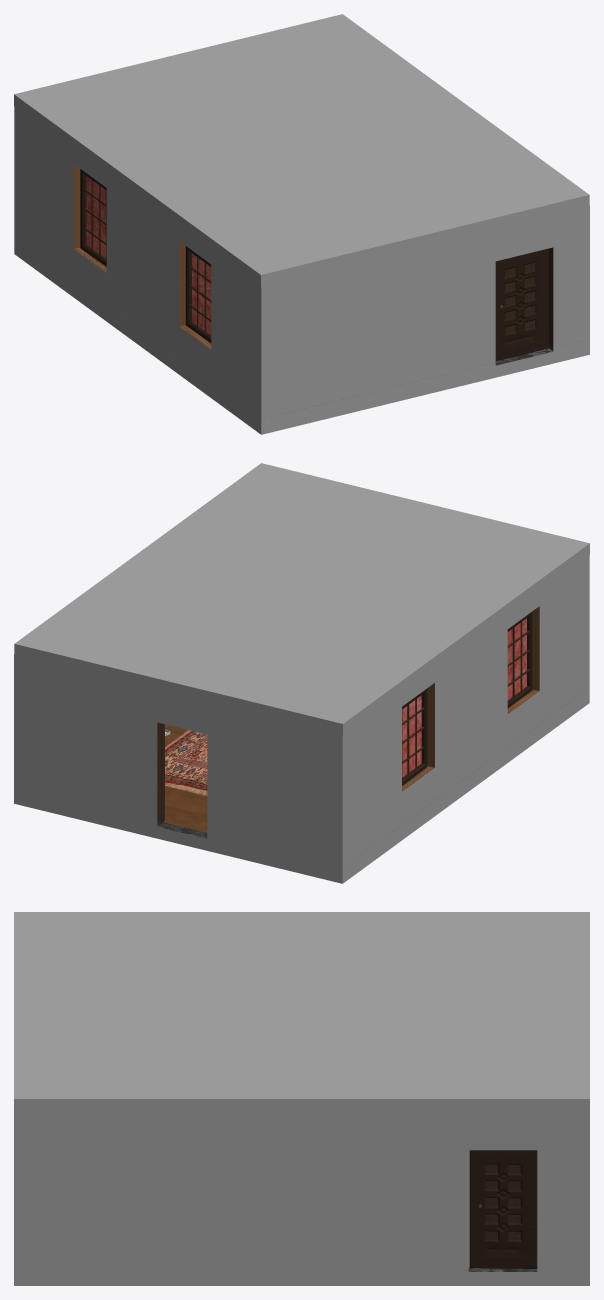
File: living_room.fbx
The picture shows the model from 3 angles, top to bottom: view 1: azimuth 30°, elevation 25°; view 2: azimuth 150°, elevation 25°; view 3: azimuth 270°, elevation 25°; orthographic projection. The views are drawn at different scales.
Parts seen in each view (by area): view 1: OfficeBase1:pCube4, OfficeBase1:pCube3, OfficeBase1:pCube2, pCube41, curtains:pPlane1, pPlane1, pCube10, OfficeBase1:pCube10, furniture:Furniture1:bookcase_base; view 2: OfficeBase1:pCube4, OfficeBase1:pCube3, OfficeBase1:pCube2, pPlane5, pPlane1, curtains:pPlane1, pCube10, OfficeBase1:pCube10; view 3: OfficeBase1:pCube4, OfficeBase1:pCube3, OfficeBase1:pCube2, pCube38.
Boxes of the visible parts, bbox=[...] form: OfficeBase1:pCube4: bbox=[14, 14, 589, 286]; OfficeBase1:pCube3: bbox=[14, 107, 589, 418]; OfficeBase1:pCube2: bbox=[14, 235, 589, 434]; pCube41: bbox=[495, 248, 548, 360]; curtains:pPlane1: bbox=[86, 176, 106, 258]; pPlane1: bbox=[192, 253, 211, 335]; pCube10: bbox=[80, 169, 106, 266]; OfficeBase1:pCube10: bbox=[185, 246, 211, 343]; furniture:Furniture1:bookcase_base: bbox=[87, 177, 105, 238]; OfficeBase1:pCube4: bbox=[14, 463, 589, 735]; OfficeBase1:pCube3: bbox=[14, 556, 589, 867]; OfficeBase1:pCube2: bbox=[14, 673, 589, 883]; pPlane5: bbox=[165, 696, 420, 795]; pPlane1: bbox=[507, 618, 526, 700]; curtains:pPlane1: bbox=[402, 695, 421, 777]; pCube10: bbox=[402, 688, 427, 785]; OfficeBase1:pCube10: bbox=[507, 611, 532, 708]; OfficeBase1:pCube4: bbox=[14, 912, 589, 1111]; OfficeBase1:pCube3: bbox=[14, 1111, 589, 1267]; OfficeBase1:pCube2: bbox=[14, 1267, 589, 1285]; pCube38: bbox=[469, 1150, 537, 1268].
Bounding box in the file's own units: 61.2 × 28.43 × 79.54.
